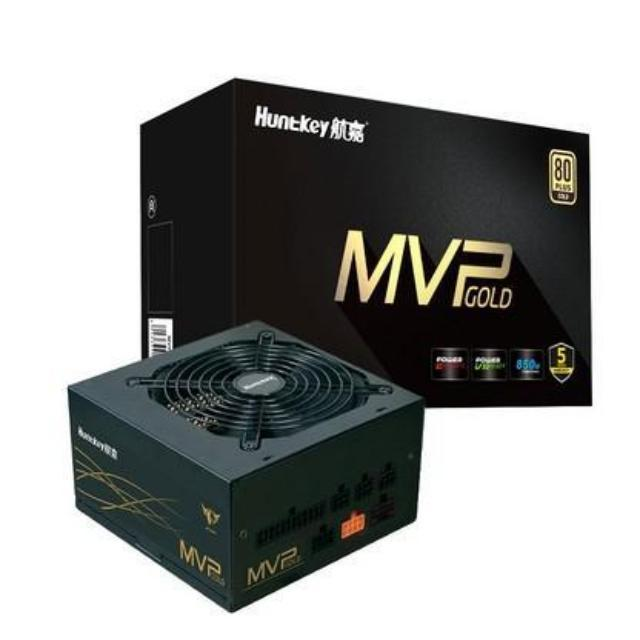PSU: (59, 306, 434, 623)
